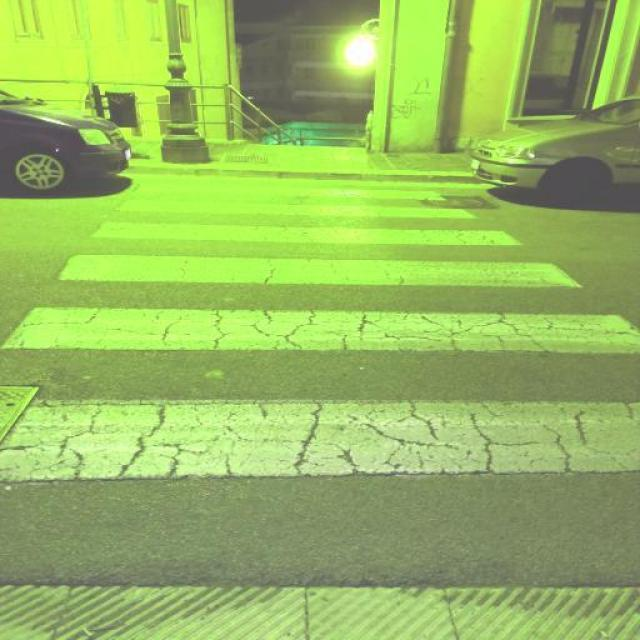crosswalk: (1, 173, 639, 585)
